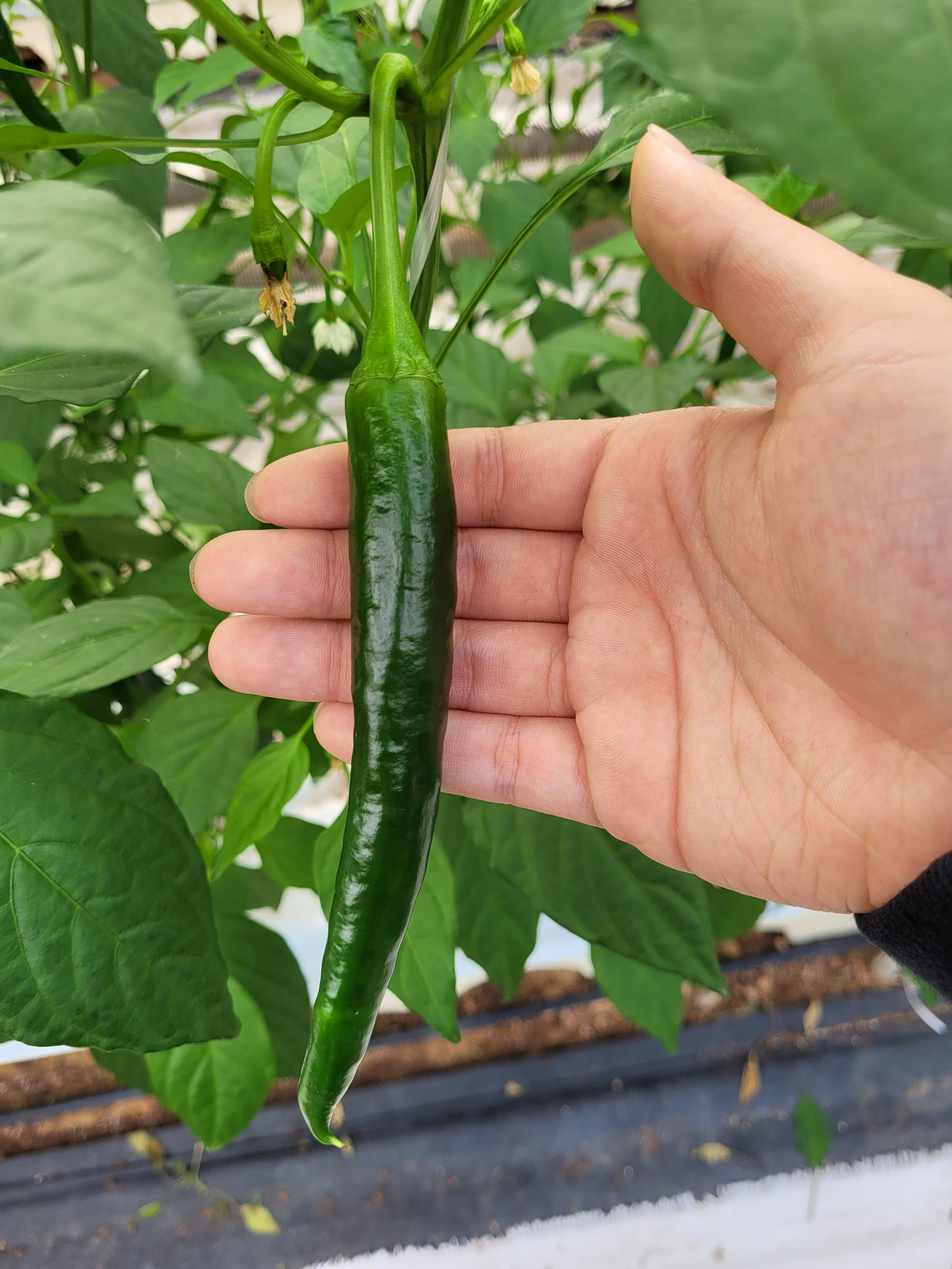Buah Cabai Sehat: (294, 315, 459, 1149)
